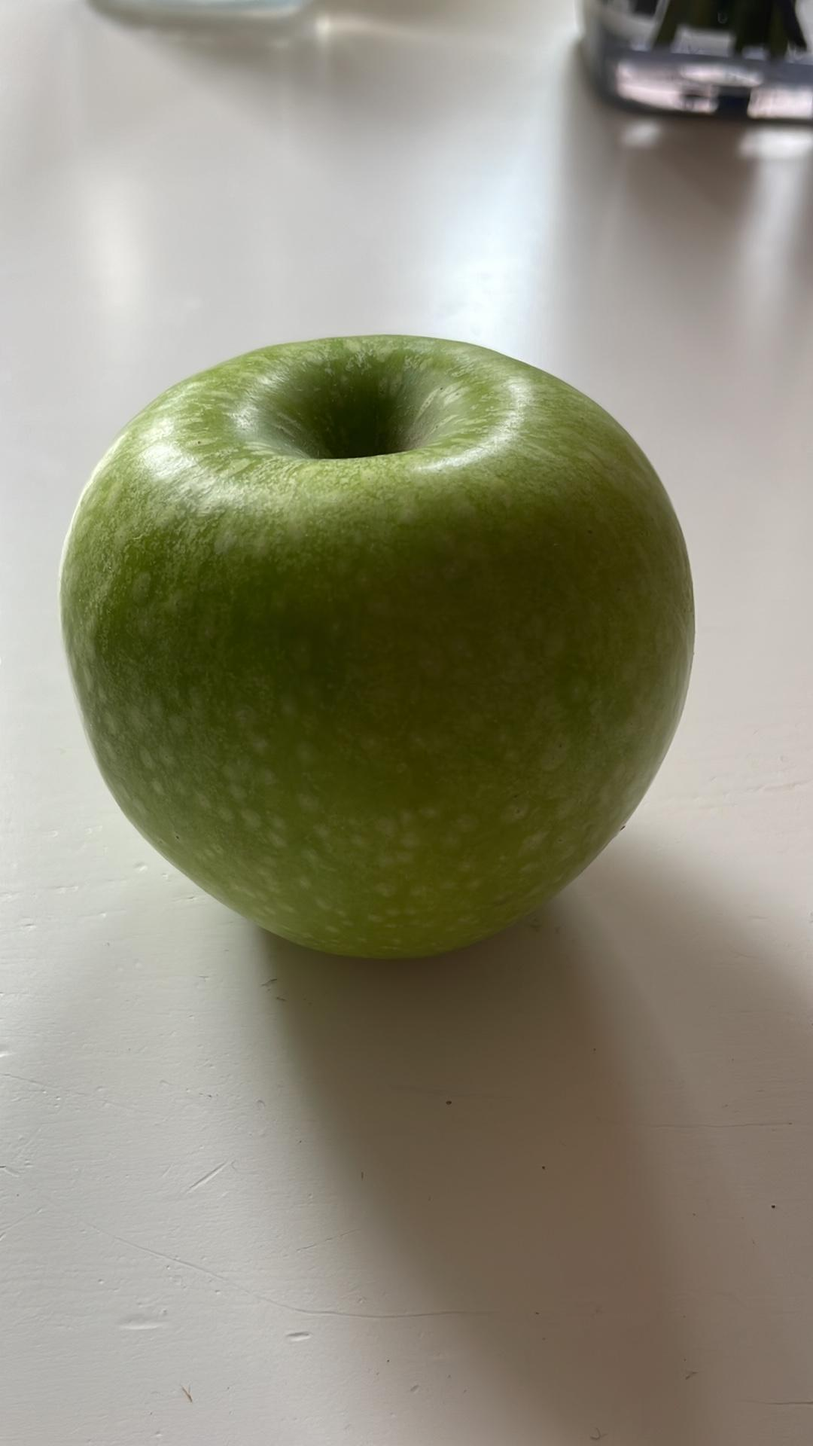apple: (58, 337, 696, 962)
